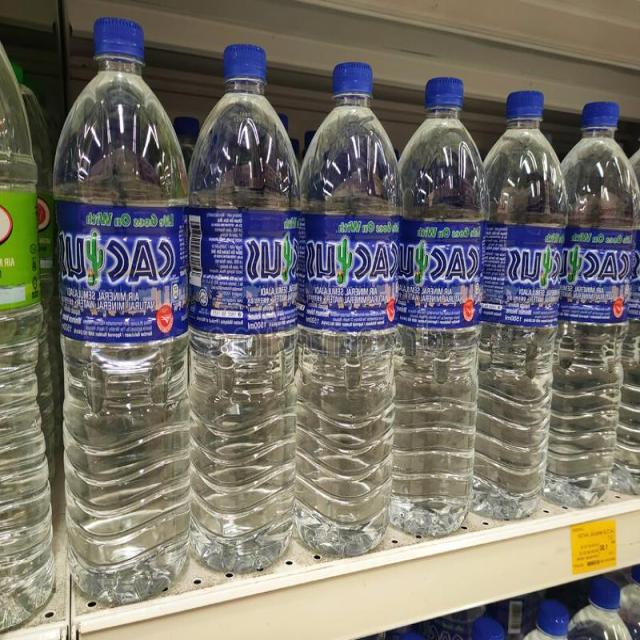plastic: (56, 15, 188, 602), (478, 90, 639, 520), (188, 44, 297, 568), (295, 62, 393, 554), (387, 79, 485, 538), (0, 32, 54, 630)
